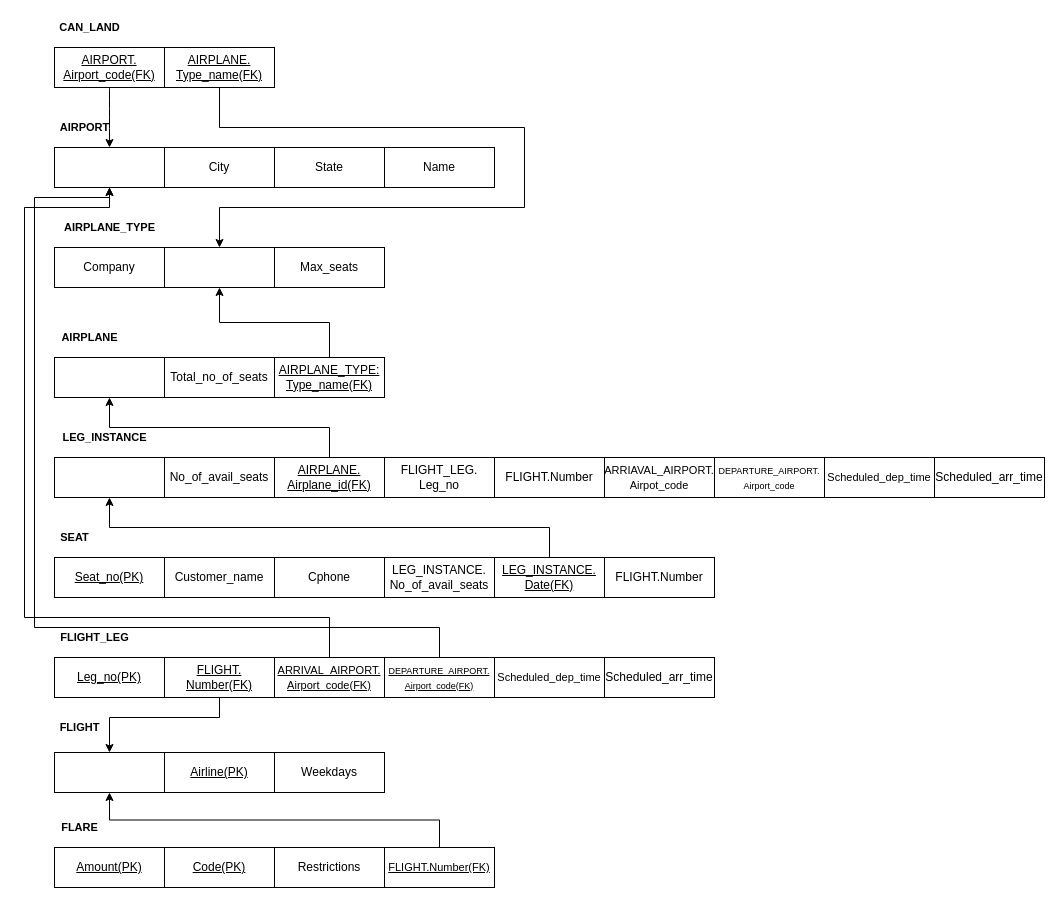
This 1062x905 diagram has some shape labels left out. The box of each missing label's shape, as (x1, y1, x2, y2) in pixels:
Airplane_id(PK): (54, 356, 164, 398)
Airport_code(PK): (54, 146, 164, 188)
Date(PK): (54, 456, 164, 498)
Number(PK): (54, 752, 164, 792)
Type_name(PK): (164, 246, 274, 288)
